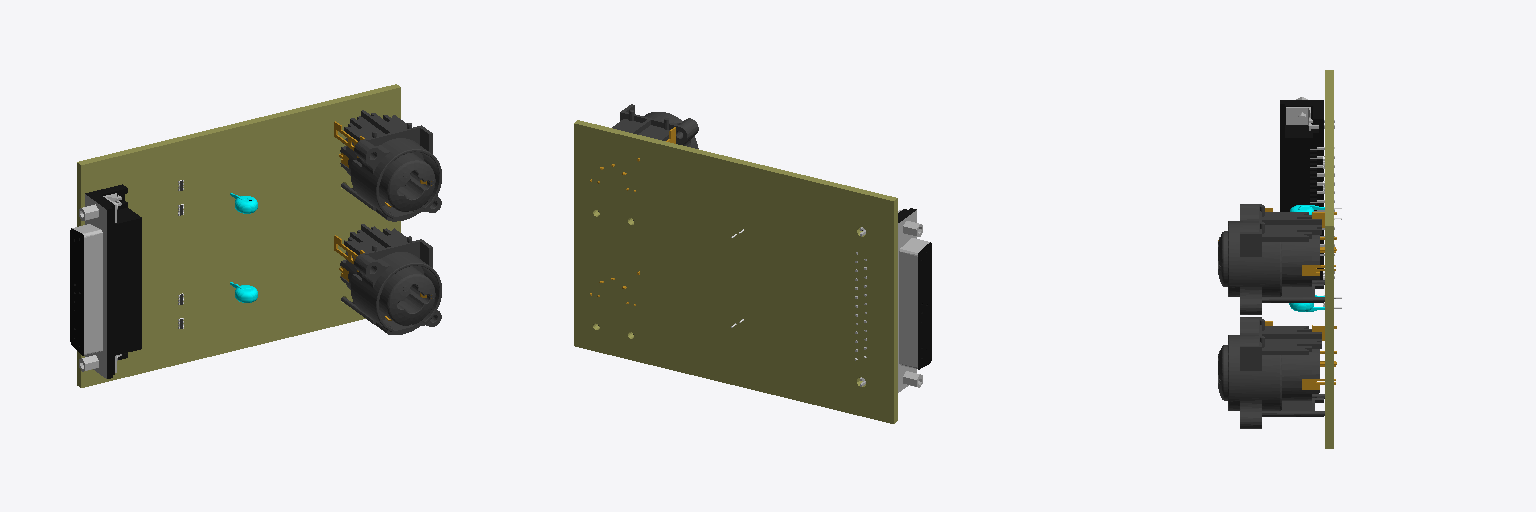
The model's file is OBJ_PCB_easy-summer.obj.
3 renders of one model, left to right at view 1: azimuth 30°, elevation 25°; view 2: azimuth 150°, elevation 25°; view 3: azimuth 270°, elevation 25°, orthographic.
Size of the model in its own units: 432 by 274 by 139.